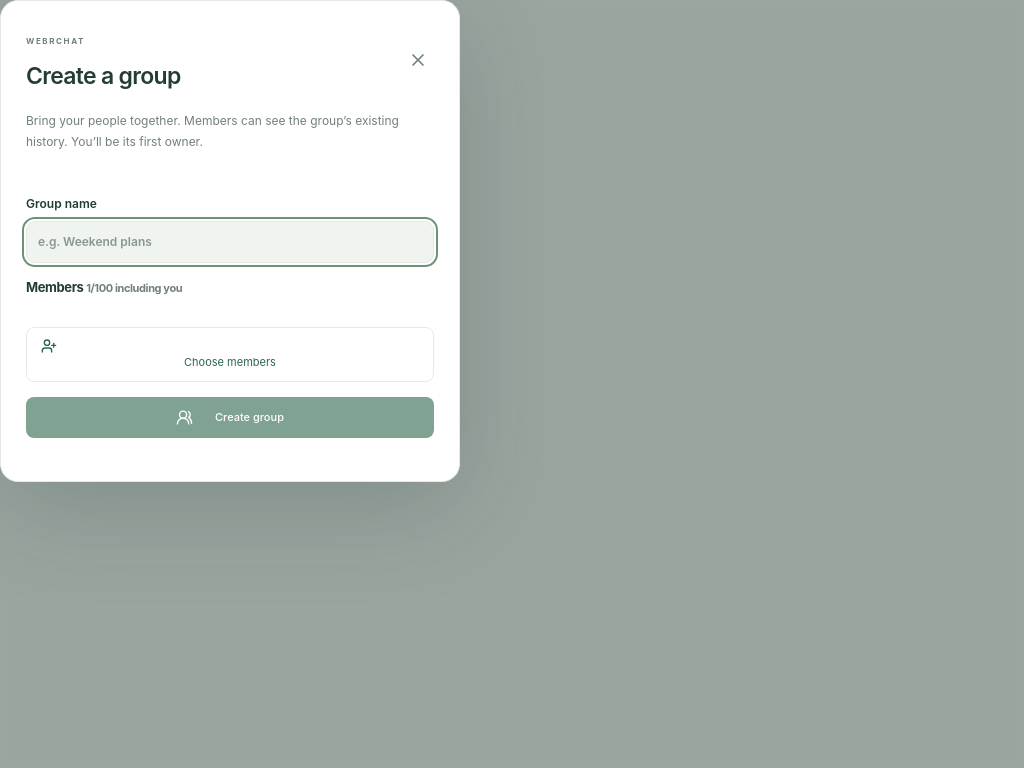
Scenario: requires a name and selected member, then creates the group with a session-bound actor
Later steps or results of the test are not shown.
Expected: the button "Create group" is disabled, [26, 397, 434, 438]
Type "Design circle" into the field labelled "Group name" at (230, 242), box [26, 221, 434, 263]
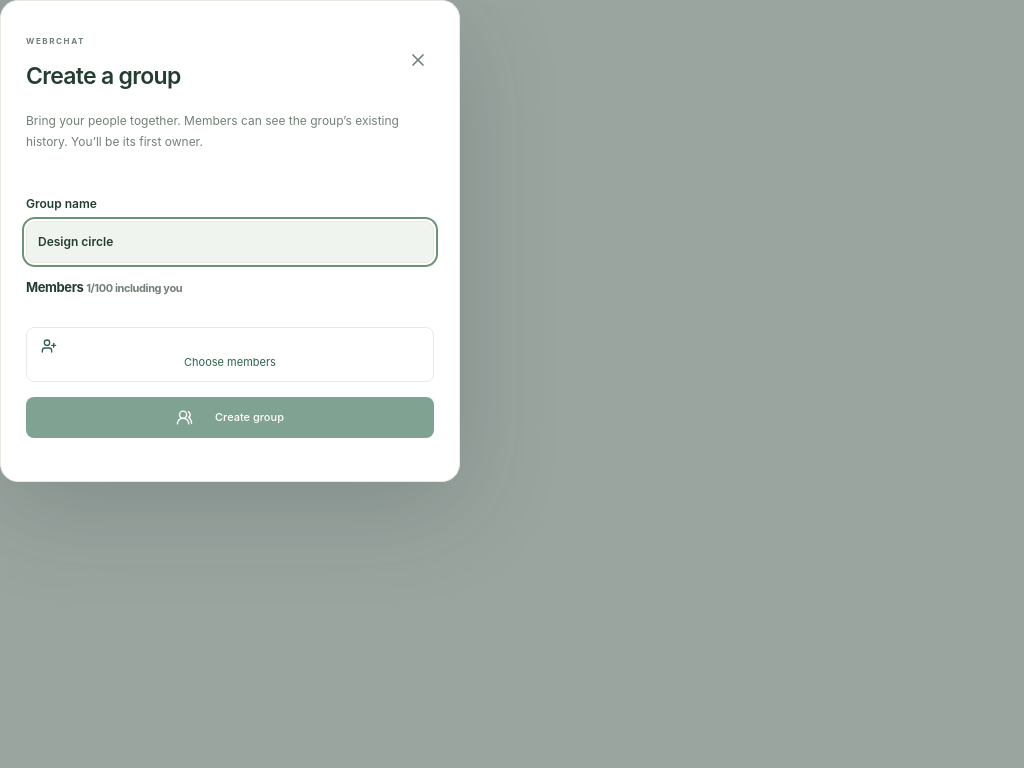
Click the button "Choose members" at (230, 355), box [26, 327, 434, 382]
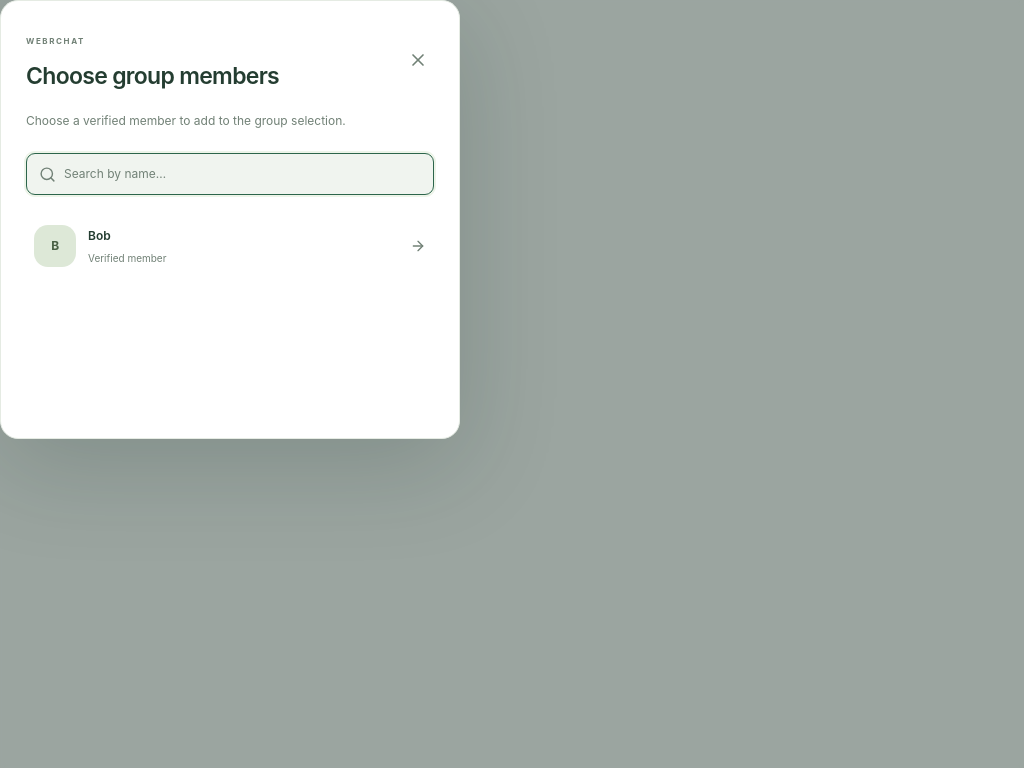
Result: the dialog "Choose group members" is shown at [0, 0, 460, 439]
Click the button "B Bob Verified member" at (55, 246), box [26, 213, 434, 279]
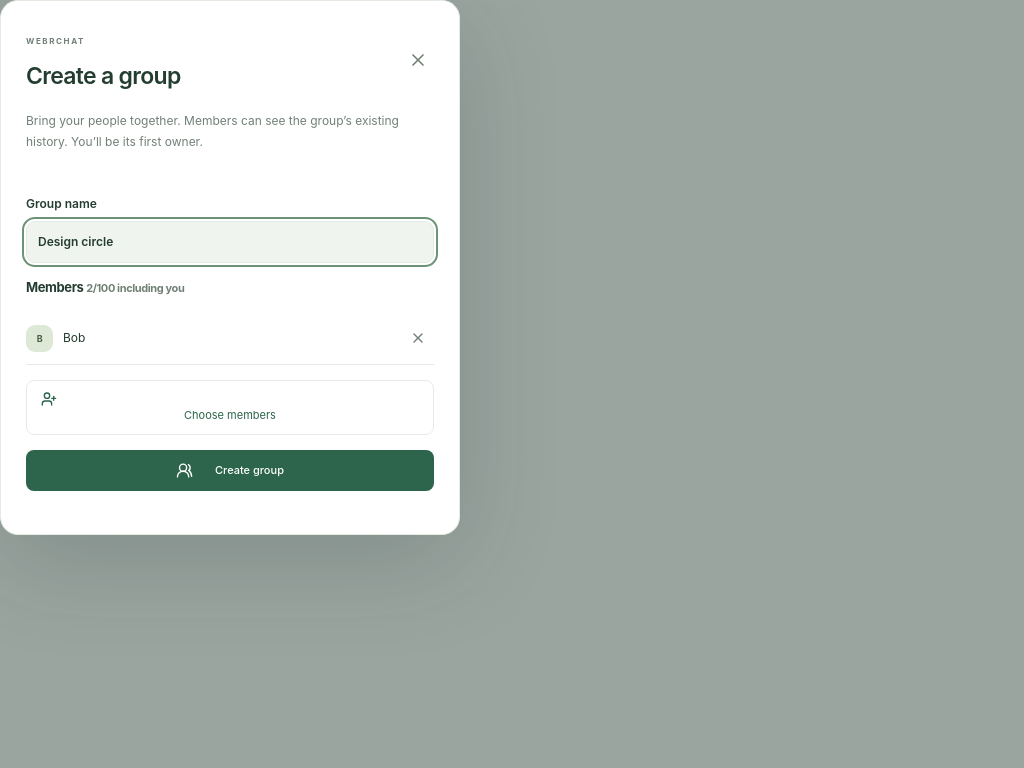
Result: the list named "Selected group members" shows "Bob" at [63, 330, 85, 345]
